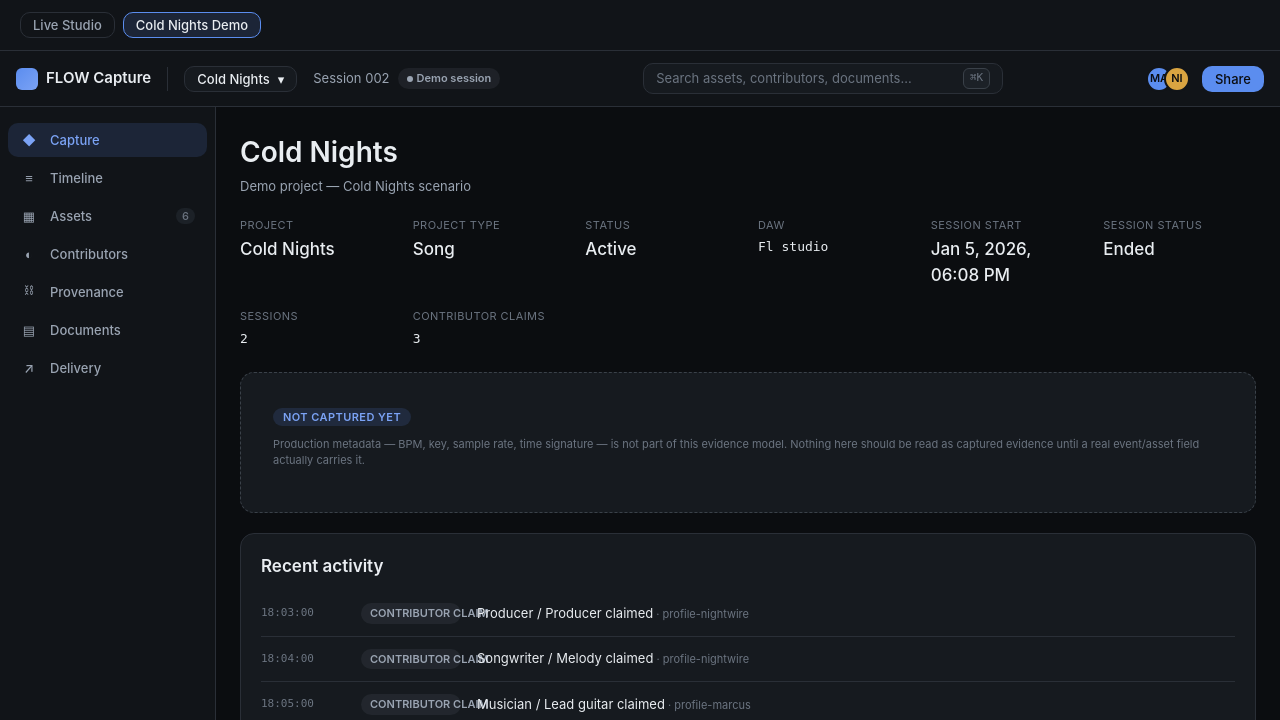
Test: Delivery view › reflects the real fixture Delivery Package section data, including the assets section
The width and height of the screenshot is (1280, 720).
Click the button "↗ Delivery" at (108, 368), box [8,351,207,385]
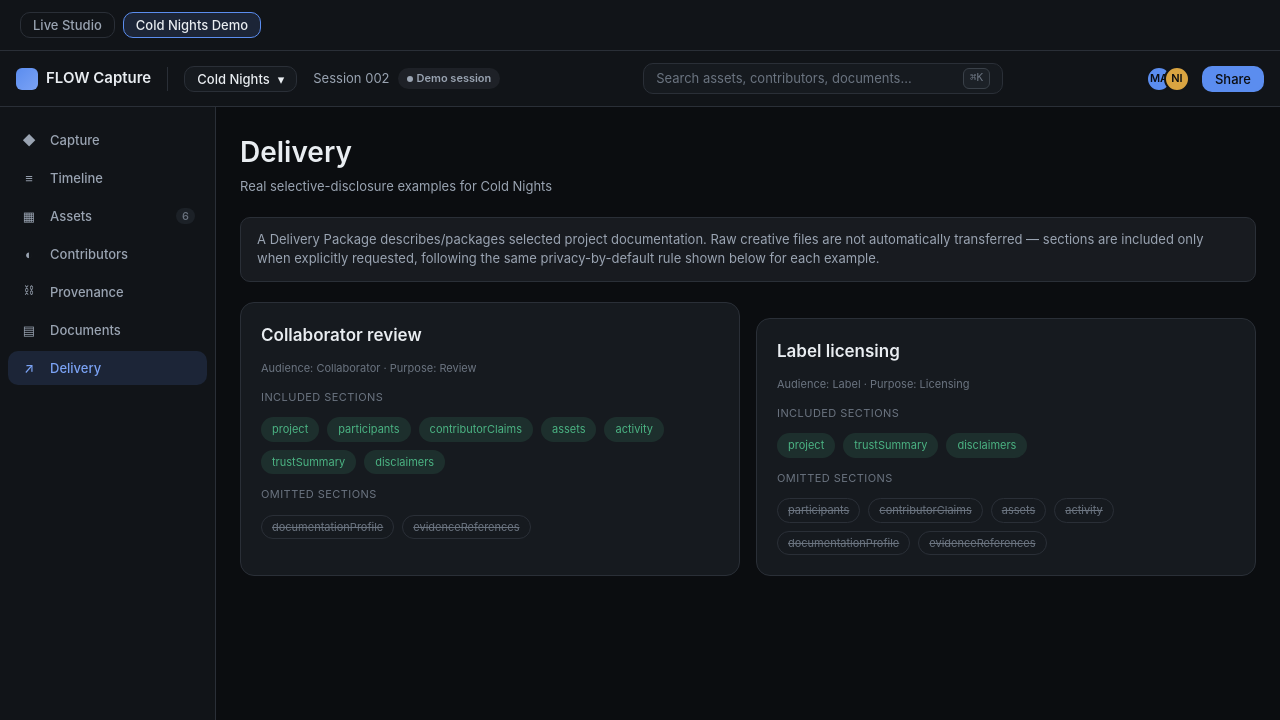
Expected: the element showing "Search assets, contributors, documents… ⌘K" is shown, [643,63,1003,94]
Expected: the text "Collaborator review" is shown, [261,324,422,344]
Expected: the text "Label licensing" is shown, [777,340,900,360]
